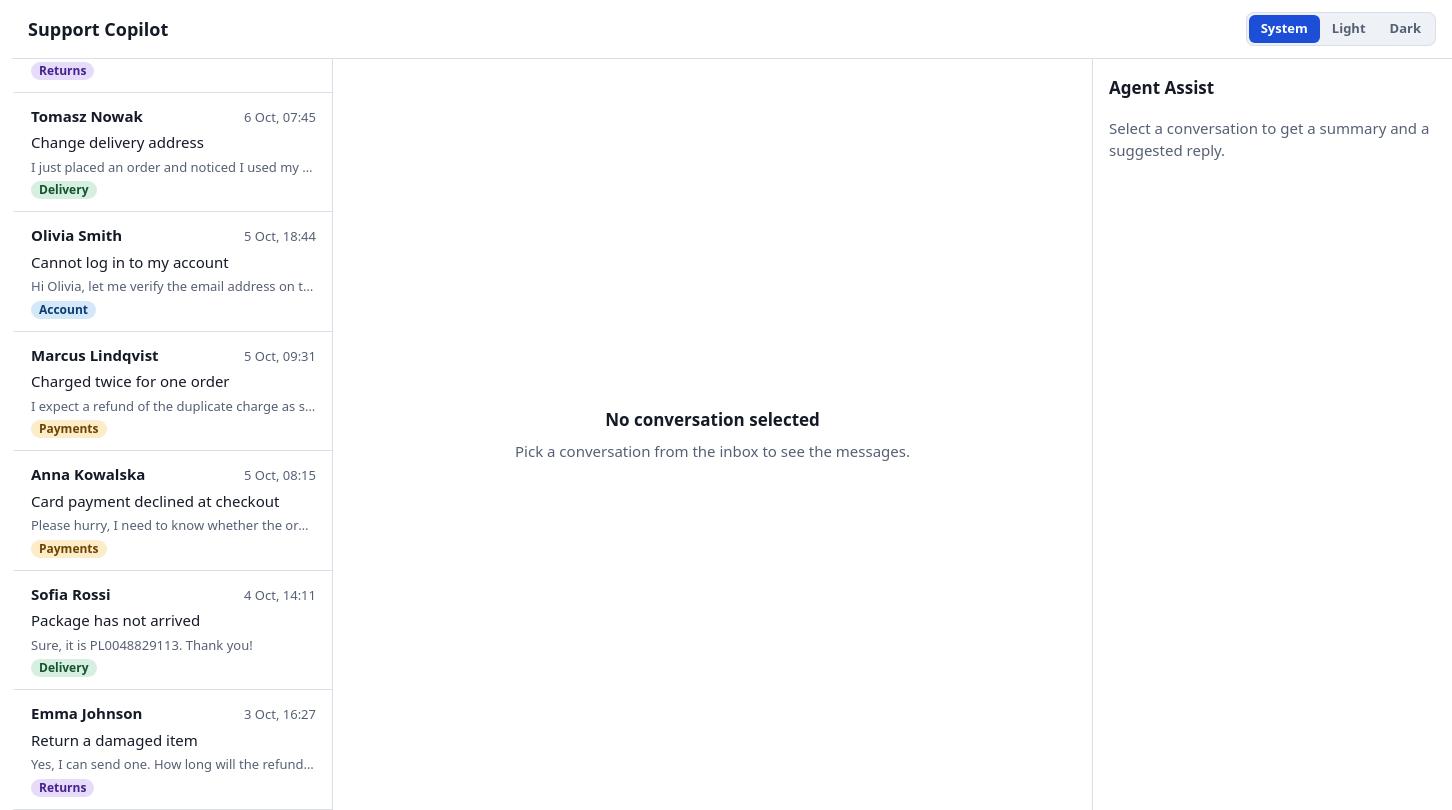
Test case: AssistPanel › analysis › shows a loading state while the analysis is pending
(page scrolled)
Click the button "Anna Kowalska": (172, 511) [12,451,332,570]
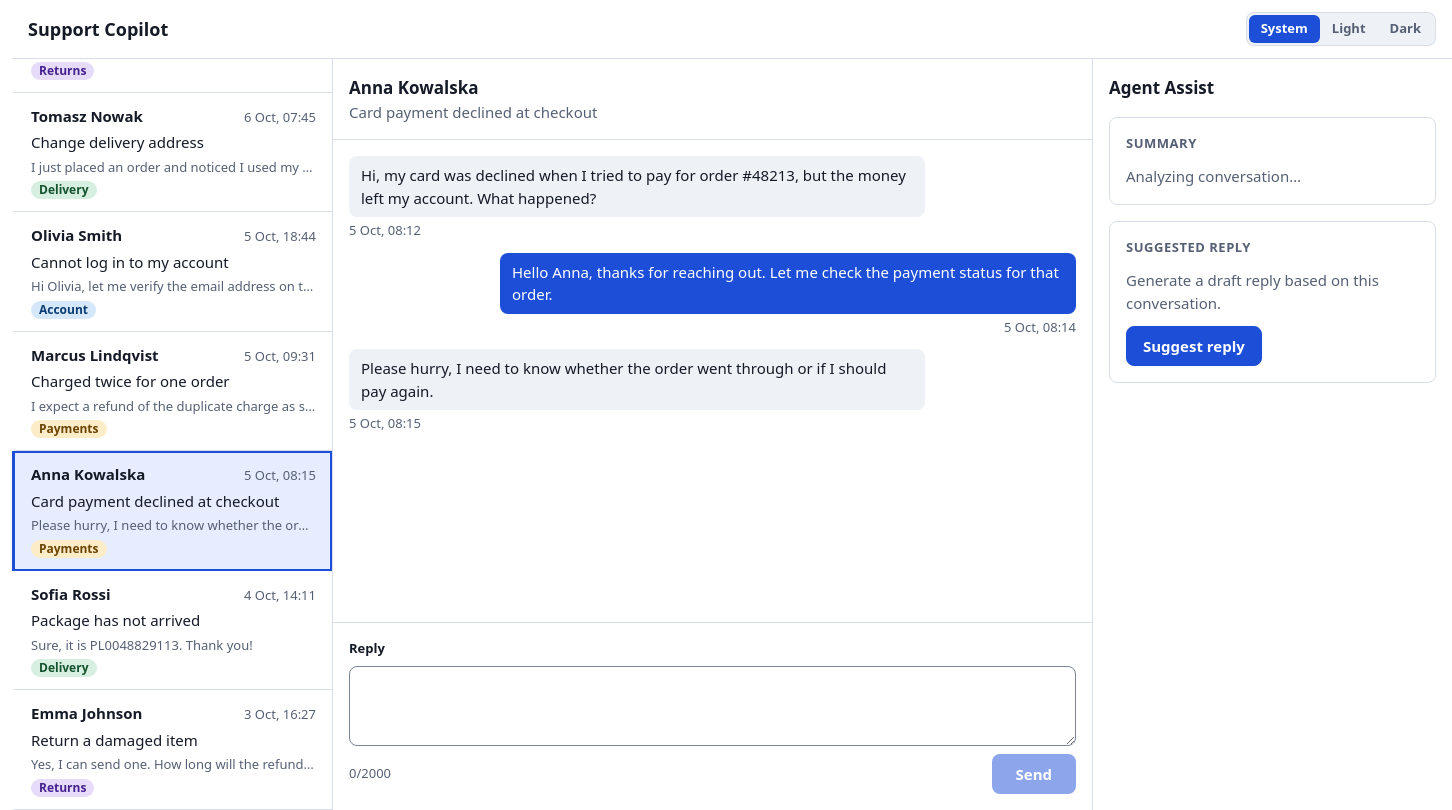
Expected: the text "Analyzing conversation…" is shown, [1126,166,1301,186]
